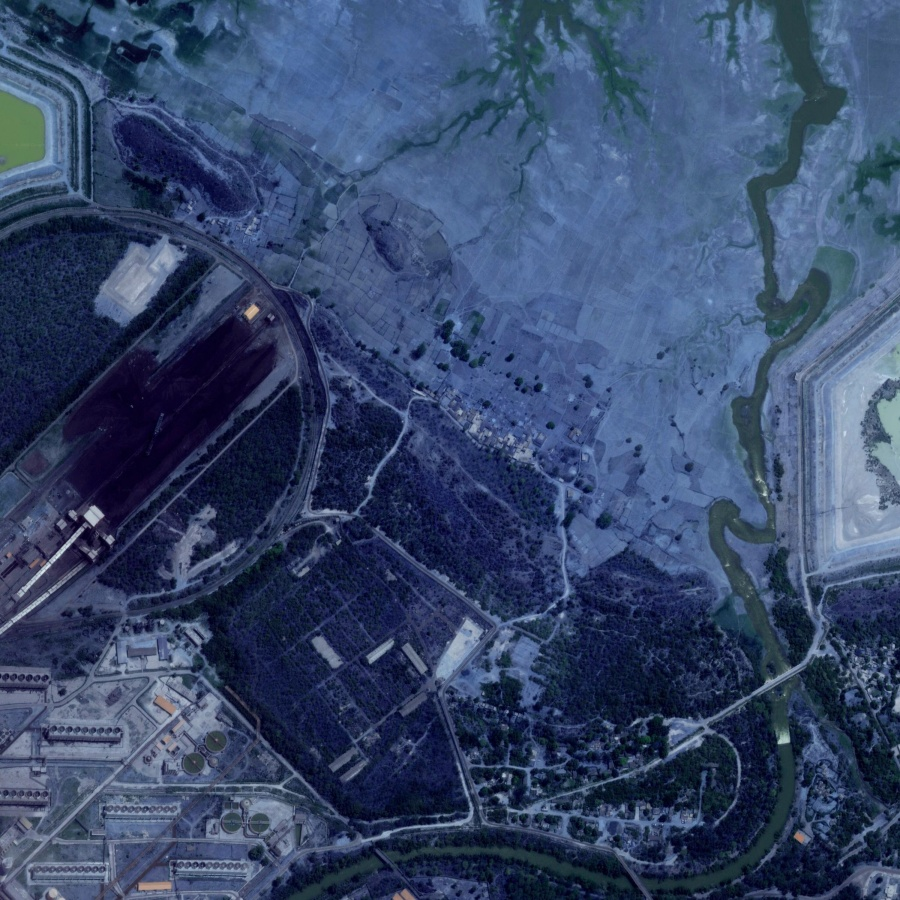PowerPlant: (16, 284, 295, 566)
